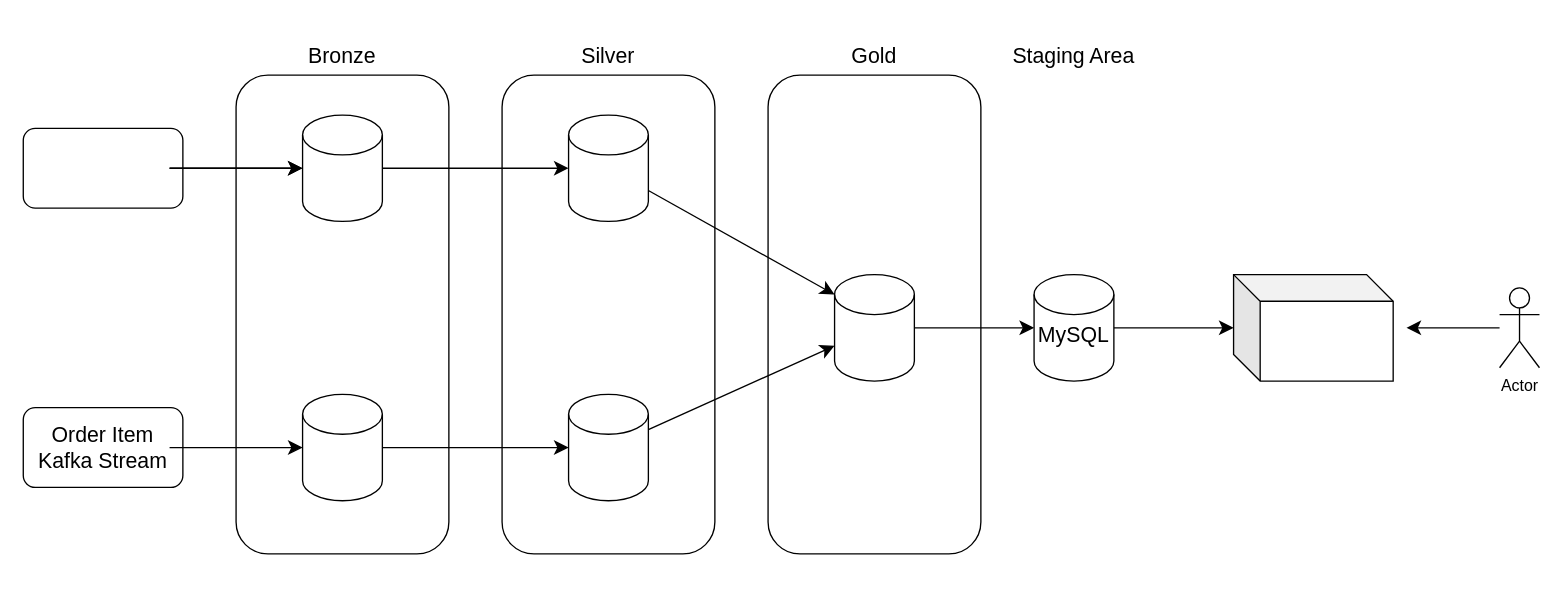
This 1563x591 diagram has some shape labels left out. The shapes that lost their labels are listed below. From the top down, each one's centre as x and y in pixels, then its label:
At pixel 102 167: "Event Kafka Stream".
At pixel 1312 327: "API".
